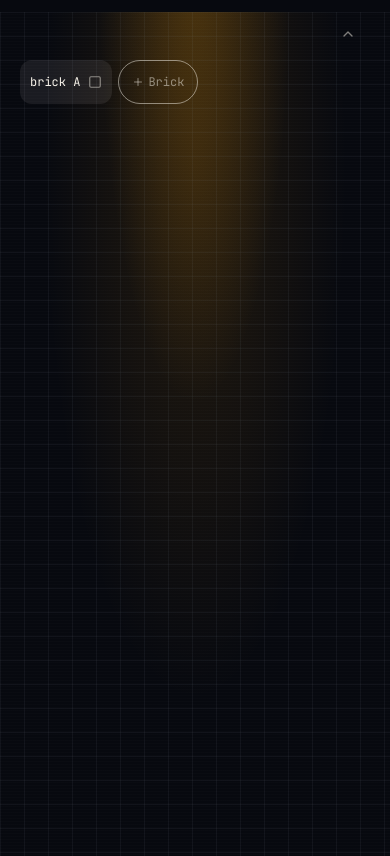
Test: C-m3-011: LooseBricksTray chevron toggles expanded › clicking chevron changes aria-expanded to true
Click the button named "Expand loose bricks".
click(348, 34)  # box [326, 12, 370, 56]
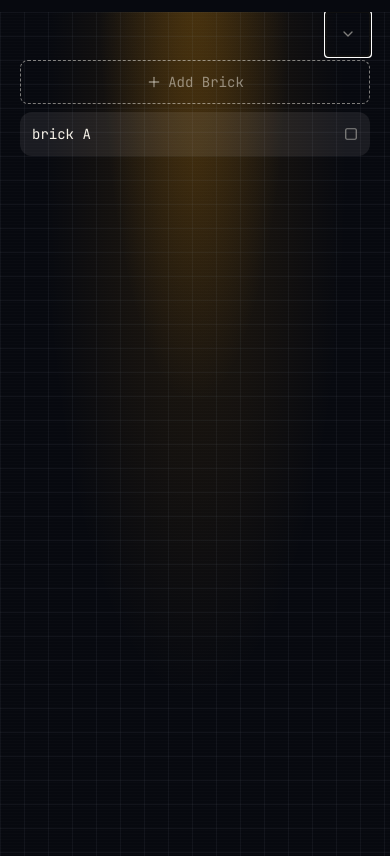
Expected: the element named "loose bricks" is expanded, [0, 12, 389, 164]
